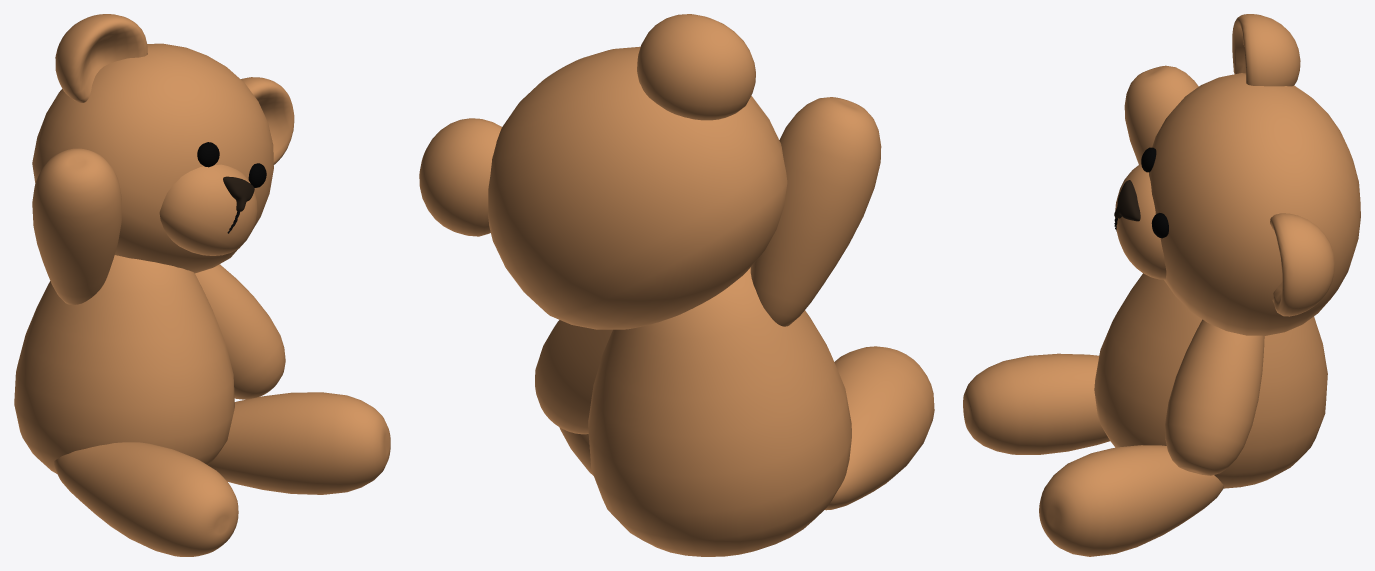
The picture shows the model from 3 angles, left to right: view 1: azimuth 30°, elevation 25°; view 2: azimuth 150°, elevation 25°; view 3: azimuth 270°, elevation 25°; orthographic projection. The views are drawn at different scales.
Parts seen in each view (by area): view 1: bear.009; view 2: bear.009; view 3: bear.009.
Boxes of the visible parts, x1,y1,x2,y2 form: bear.009: (14, 14, 390, 556); bear.009: (419, 14, 934, 556); bear.009: (963, 14, 1360, 556).
Size of the model in its own units: 276 by 382 by 297.
